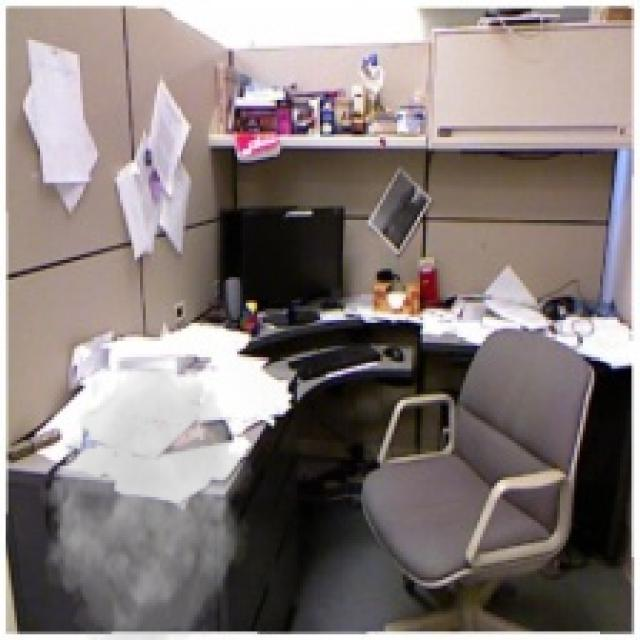smoke: (37, 369, 257, 637)
